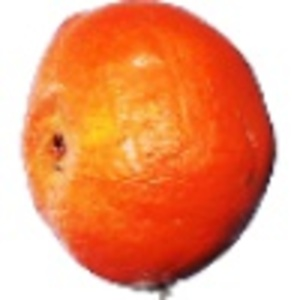tangerina: (18, 1, 279, 300)
